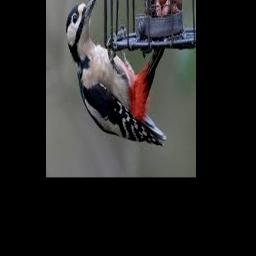Woodpecker: (66, 0, 166, 147)
